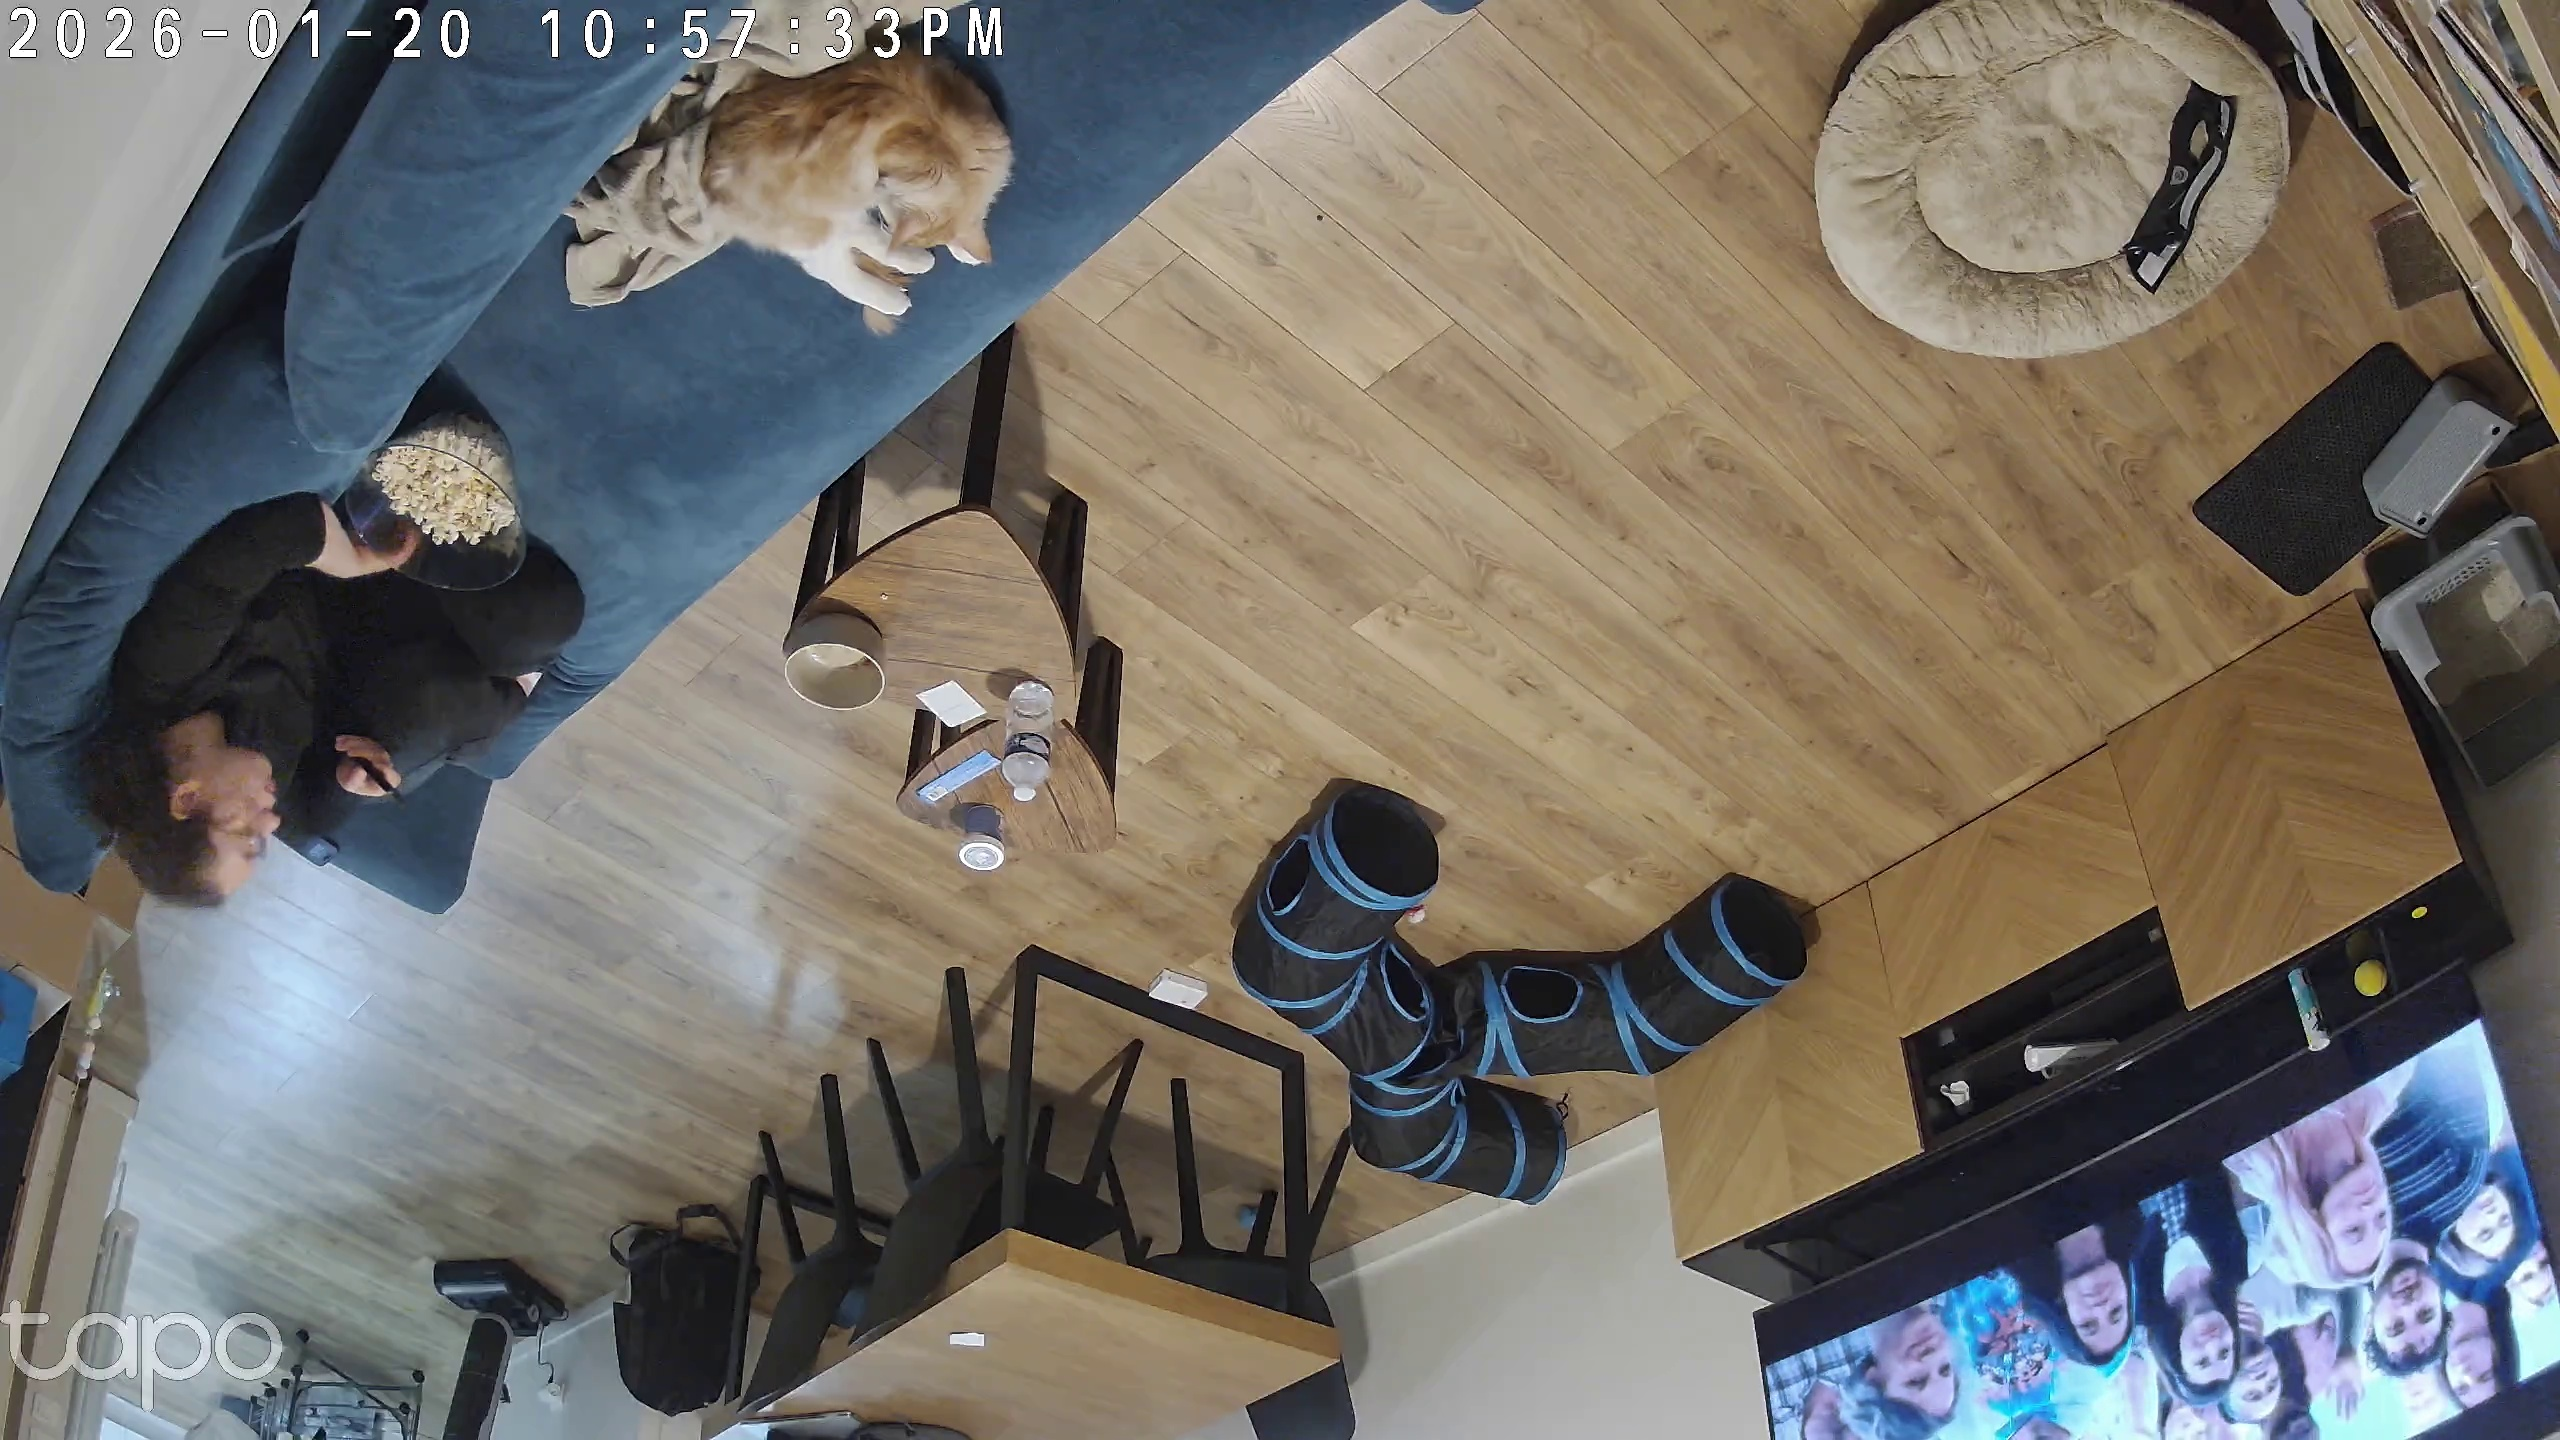Simba: (670, 49, 1051, 346)
